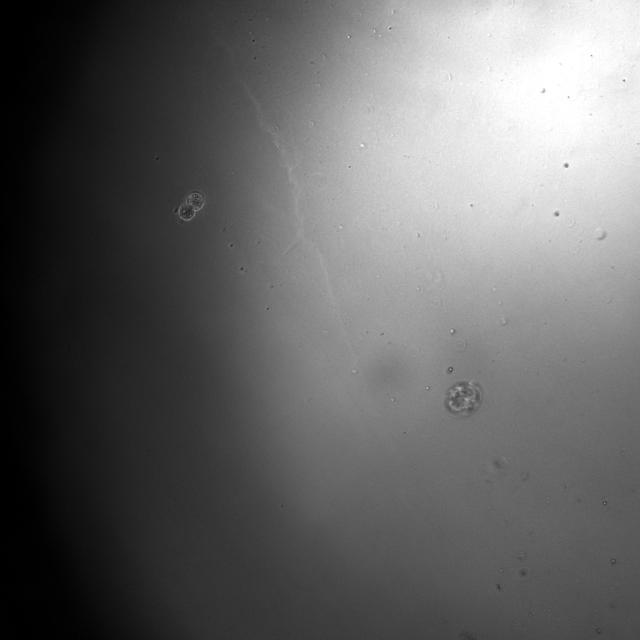organoid: (444, 381, 482, 417), (178, 192, 204, 220)
